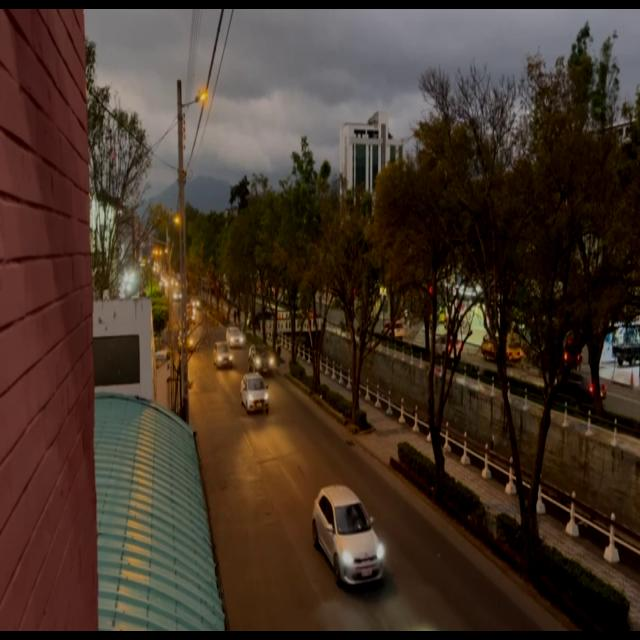SUV: (315, 492, 381, 586), (241, 375, 268, 412)
